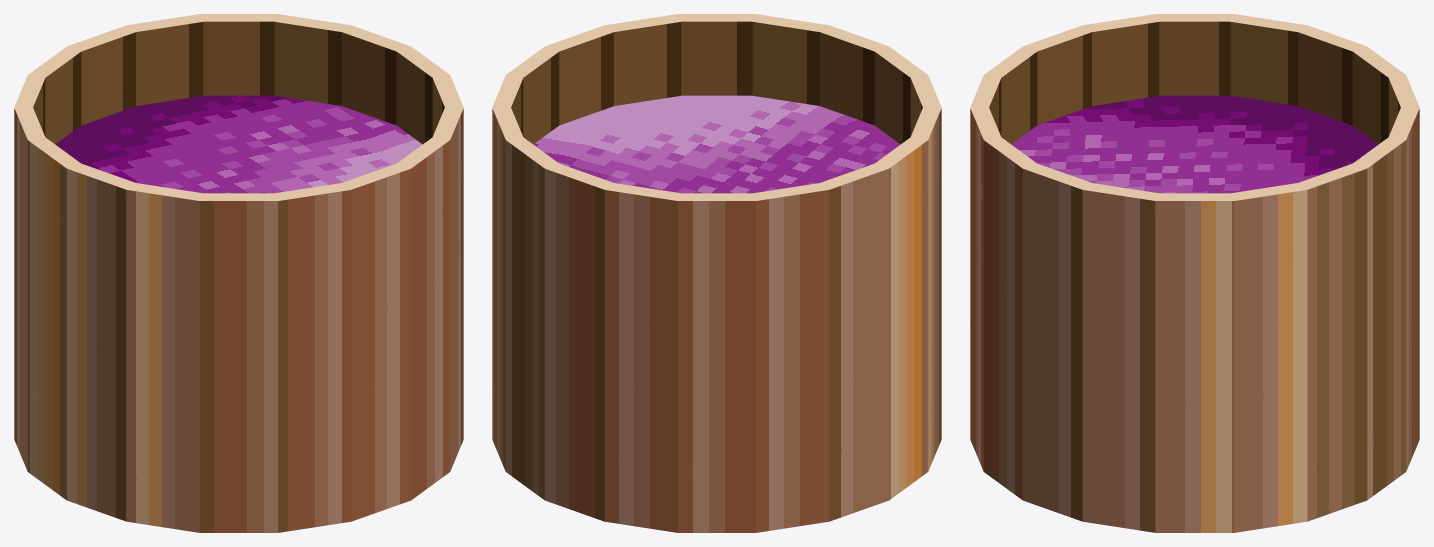
Rendered from wine_press_656x01.gltf.
3 renders of one model, left to right at view 1: azimuth 30°, elevation 25°; view 2: azimuth 150°, elevation 25°; view 3: azimuth 270°, elevation 25°, orthographic.
Parts seen in each view (by area): view 1: wine_press_656x01; view 2: wine_press_656x01; view 3: wine_press_656x01.
Boxes of the visible parts, bbox=[...] form: wine_press_656x01: bbox=[14, 14, 463, 532]; wine_press_656x01: bbox=[492, 14, 941, 532]; wine_press_656x01: bbox=[970, 14, 1419, 532].
Size of the model in its own units: 2.95 by 2.44 by 3.
Materials: 1 (1 with a texture image).
